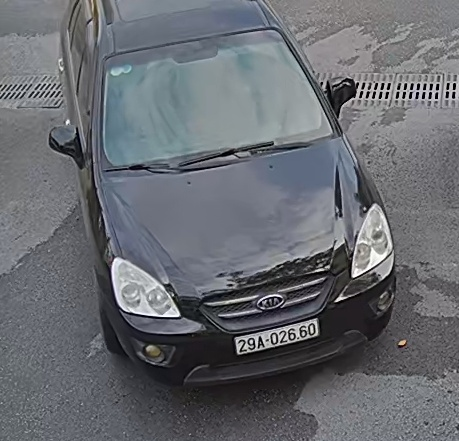vehicle plate: (231, 317, 328, 365)
